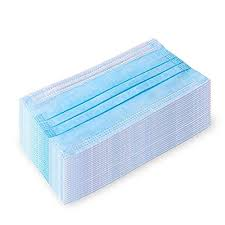flumask: (29, 54, 188, 179)
